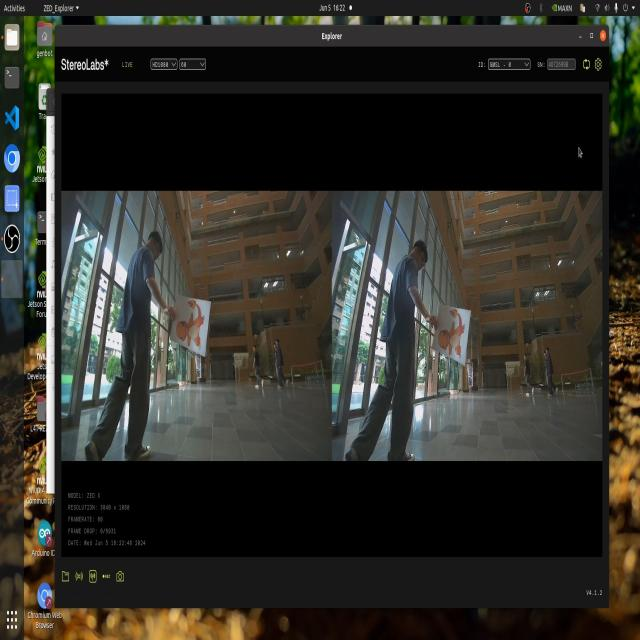red: (434, 306, 474, 370), (163, 297, 213, 348)
